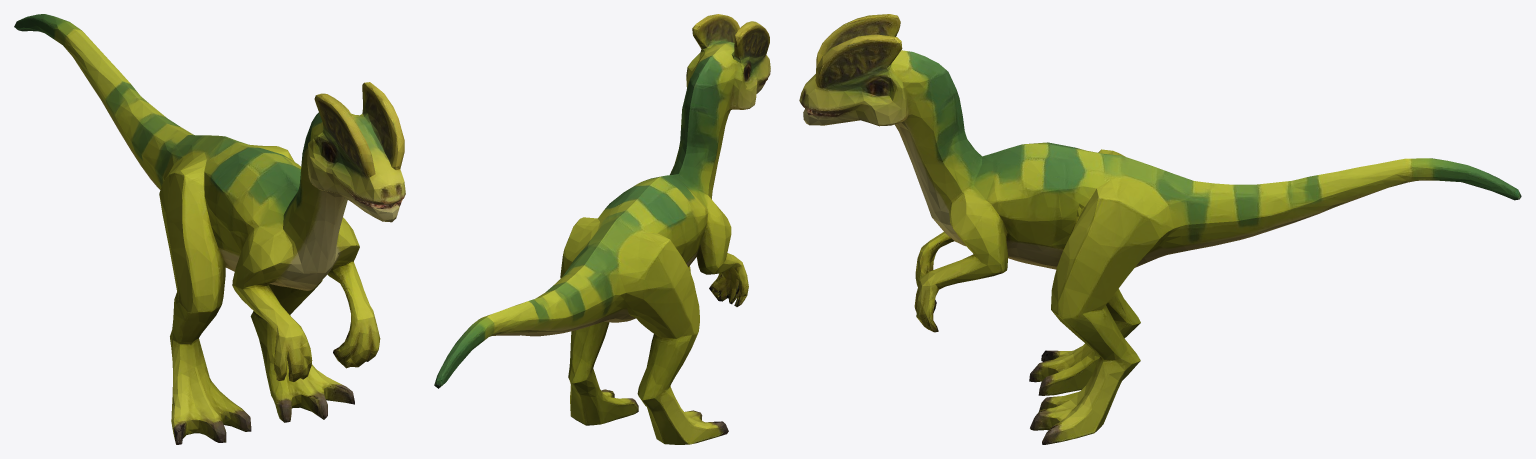
Rendered from dilophosaurus.glb.
3 views of the same model, side by side, from view 1: azimuth 30°, elevation 25°; view 2: azimuth 150°, elevation 25°; view 3: azimuth 270°, elevation 25° (orthographic). The views are drawn at different scales.
Parts seen in each view (by area): view 1: geometry_0; view 2: geometry_0; view 3: geometry_0.
Boxes of the visible parts, x1,y1,x2,y2 form: geometry_0: (14, 14, 405, 444); geometry_0: (434, 14, 770, 444); geometry_0: (799, 14, 1521, 444).
Size of the model in its own units: 0.2746 by 0.582 by 1.
Materials: 1 (1 with a texture image).
